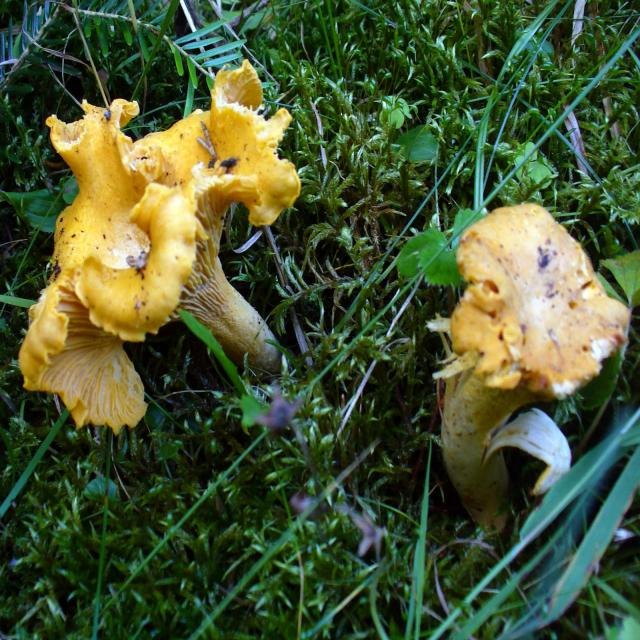chanterelle: (17, 60, 303, 433), (435, 204, 631, 533)
